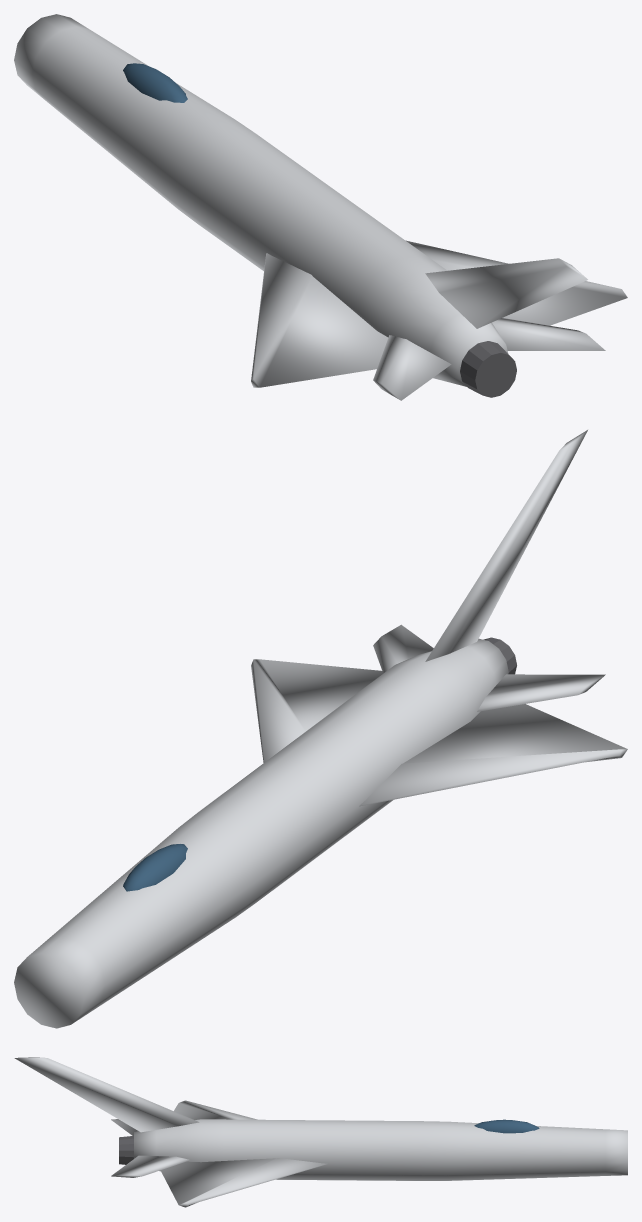
File: mig21.fbx
3 renders of one model, top to bottom at view 1: azimuth 30°, elevation 25°; view 2: azimuth 150°, elevation 25°; view 3: azimuth 270°, elevation 25°, orthographic. The views are drawn at different scales.
Visible parts, largest first — view 1: Body, Detail, Canopy; view 2: Body, Canopy; view 3: Body, Canopy, Detail.
Part boxes in pixels (x1,y1,x2,y2): Body: (14,14,627,400); Detail: (460,341,516,397); Canopy: (123,63,187,102); Body: (14,430,627,1028); Canopy: (123,844,187,891); Body: (14,1057,627,1207); Canopy: (474,1119,539,1133); Detail: (119,1136,133,1164).
Bounding box in the file's own units: 720 × 395 × 1827.
